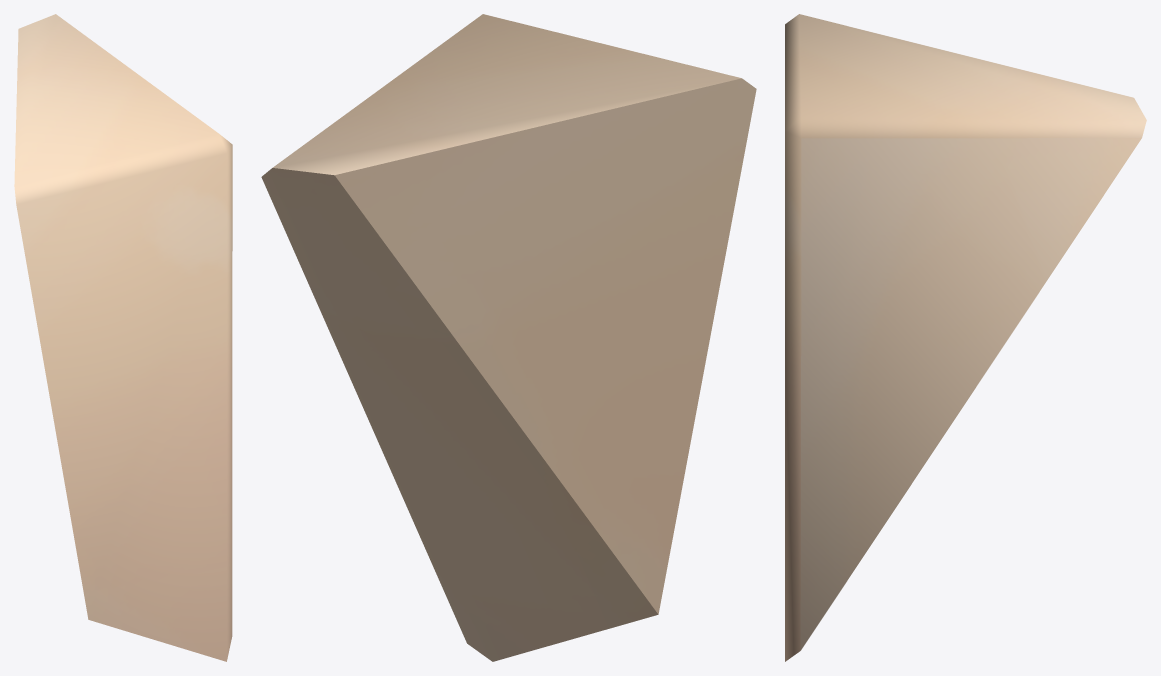
Rendered from Block16.10.fbx.
3 views of the same model, side by side, from view 1: azimuth 30°, elevation 25°; view 2: azimuth 150°, elevation 25°; view 3: azimuth 270°, elevation 25° (orthographic). The views are drawn at different scales.
Parts seen in each view (by area): view 1: Block16.10; view 2: Block16.10; view 3: Block16.10.
Part boxes in pixels (x1=…): Block16.10: x1=14, y1=14, x2=232, y2=661; Block16.10: x1=261, y1=14, x2=756, y2=661; Block16.10: x1=785, y1=14, x2=1146, y2=661.
Bounding box in the file's own units: 0.3119 × 0.6951 × 0.4179.
